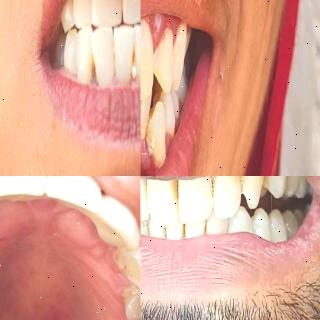Gum Swelling: (152, 14, 170, 45), (140, 127, 148, 173)
calculus: (127, 40, 140, 95), (83, 58, 103, 88), (110, 49, 122, 83)
cavities: (126, 294, 140, 320)
maligned: (150, 90, 172, 176), (150, 24, 173, 101), (92, 26, 115, 84)
plaque: (117, 280, 141, 318)
stains: (164, 176, 184, 216), (178, 223, 192, 240), (202, 214, 210, 238)
